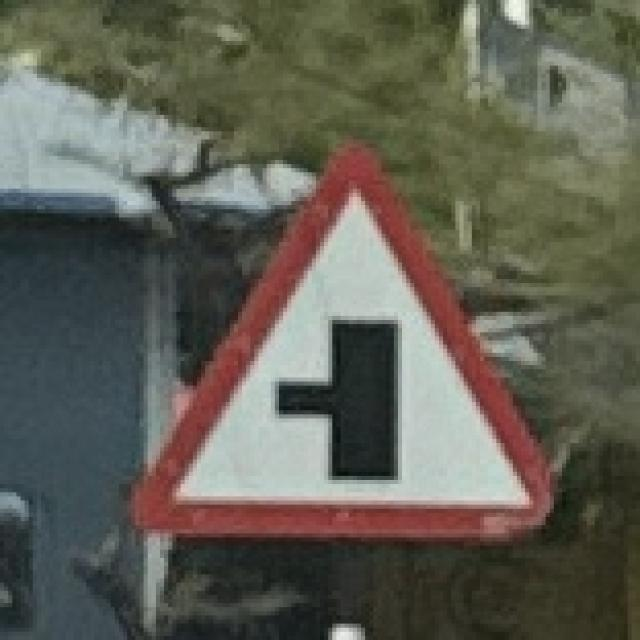SIDE_ROAD_LEFT: (112, 128, 570, 556)
